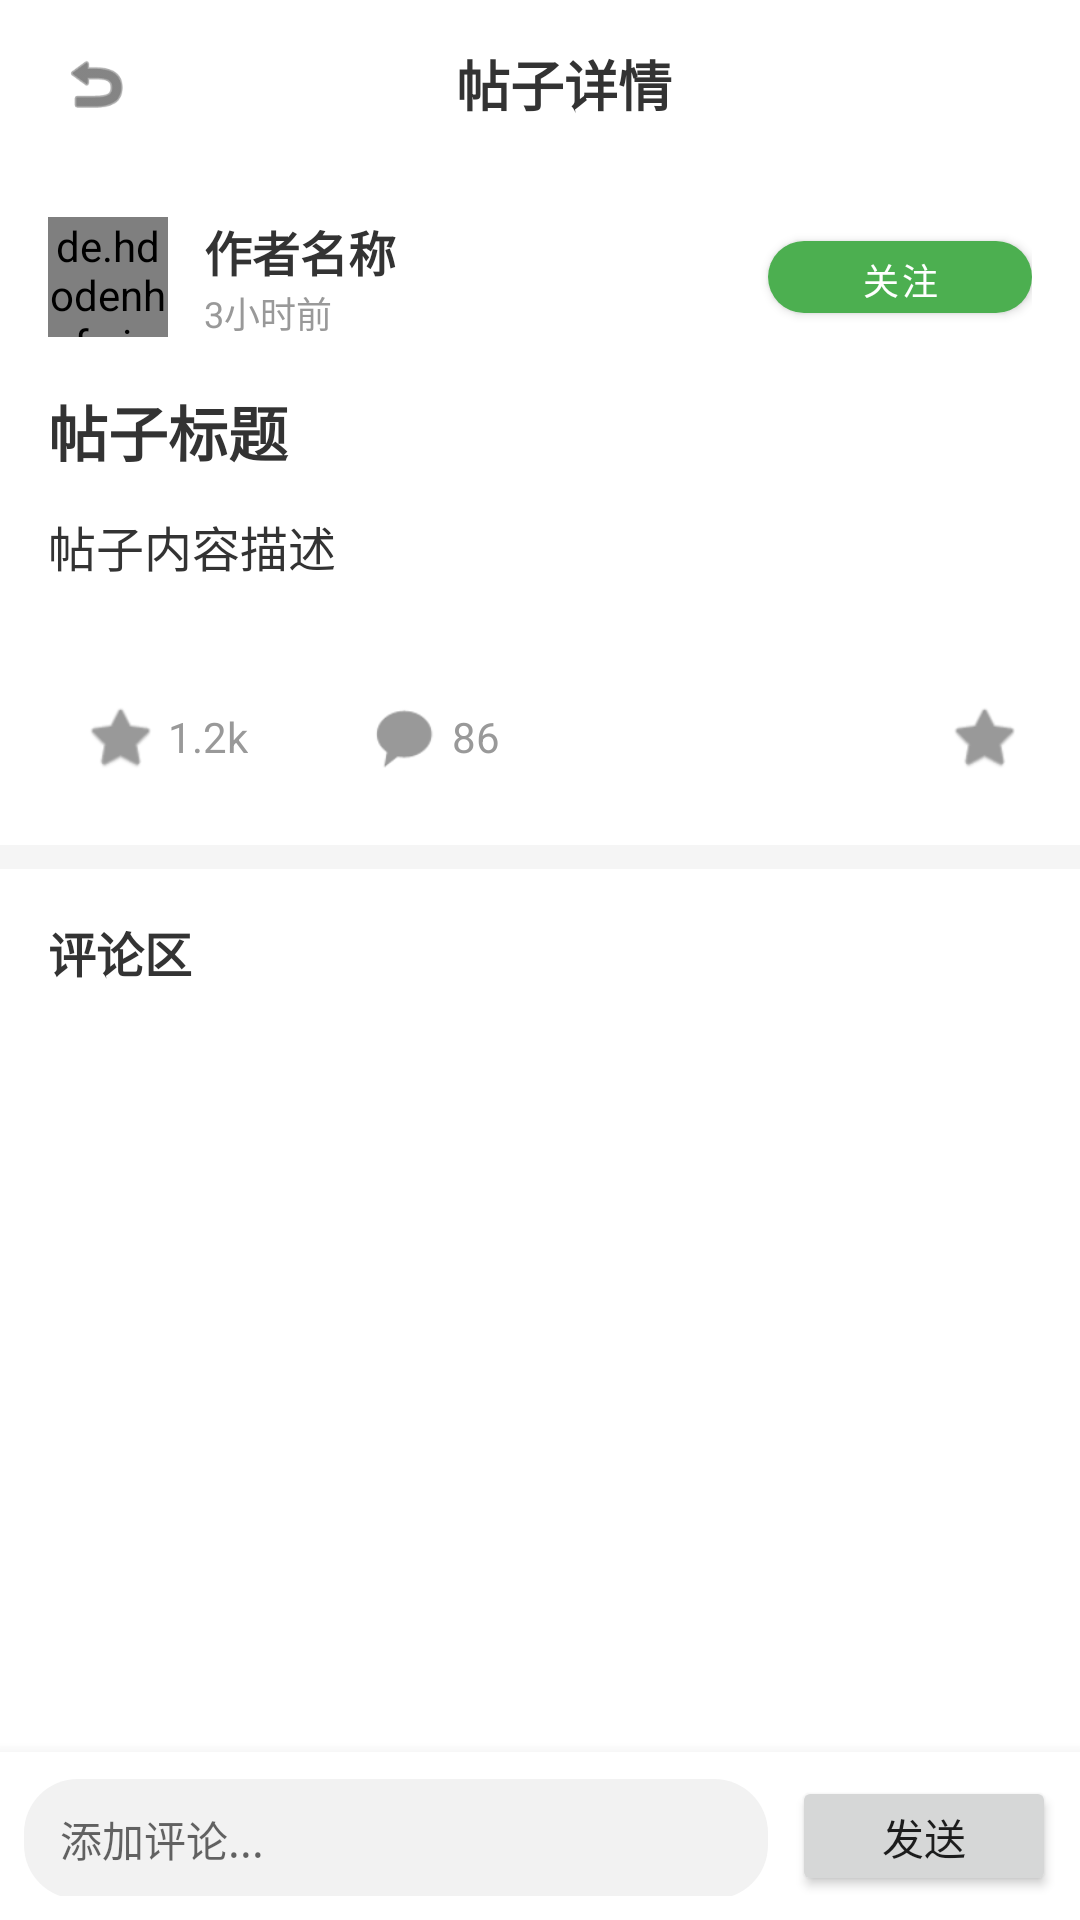

Icons on this 1080*1920 Android screen, each with the point to tap as [x,y]:
revert: [97,84]
star: [120,737], [984,737]
sym action chat: [404,738]
